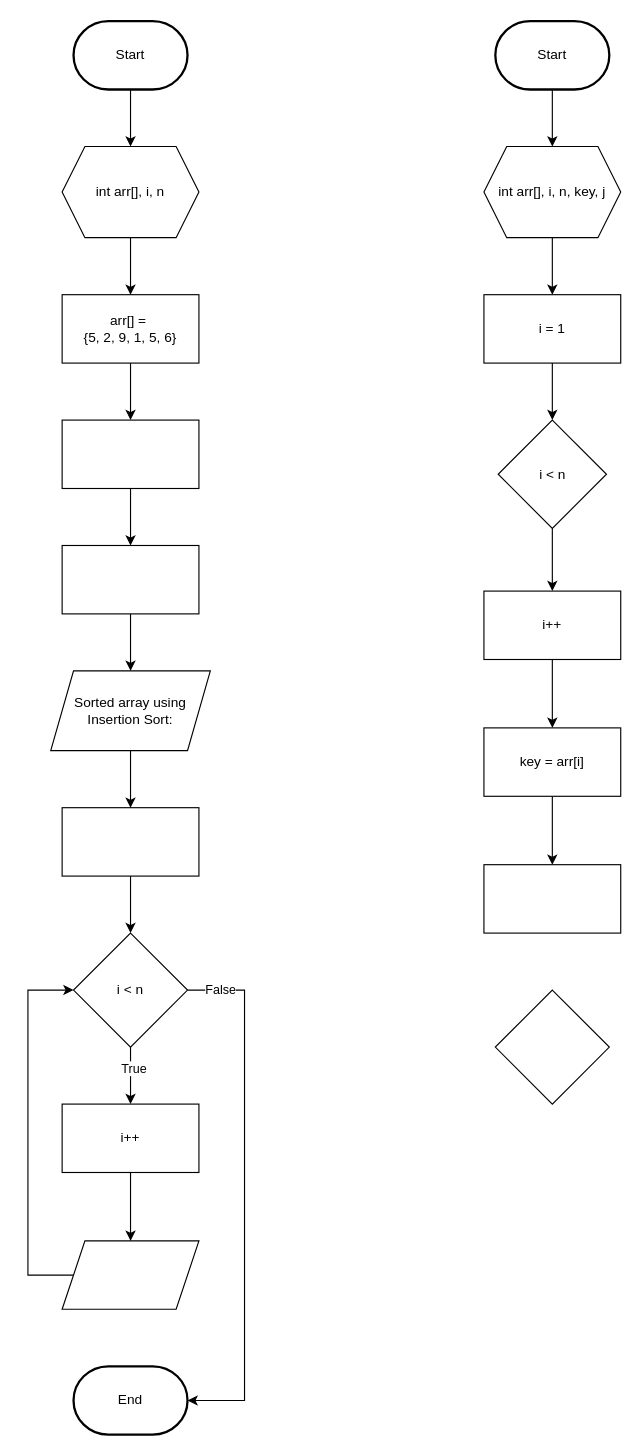
The diagram is 641 pixels wide and 1455 high, and some of its shapes have lost their labels. The box of each missing label's shape, as (x1, y1, x2, y2) in pixels:
arr[i]: (61, 1240, 199, 1309)
i = 0: (61, 807, 199, 876)
insertionSort(arr, n): (61, 544, 199, 614)
j = i - 1: (483, 864, 621, 933)
j >= 0 && arr[j] > key: (494, 989, 609, 1104)
n = sizeof(arr) / sizeof(arr[0]): (61, 419, 199, 488)
